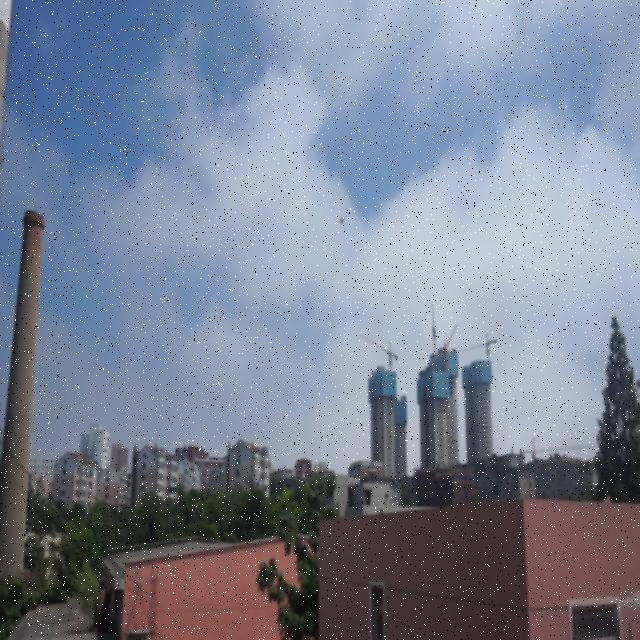UAV: (338, 215, 347, 225)
